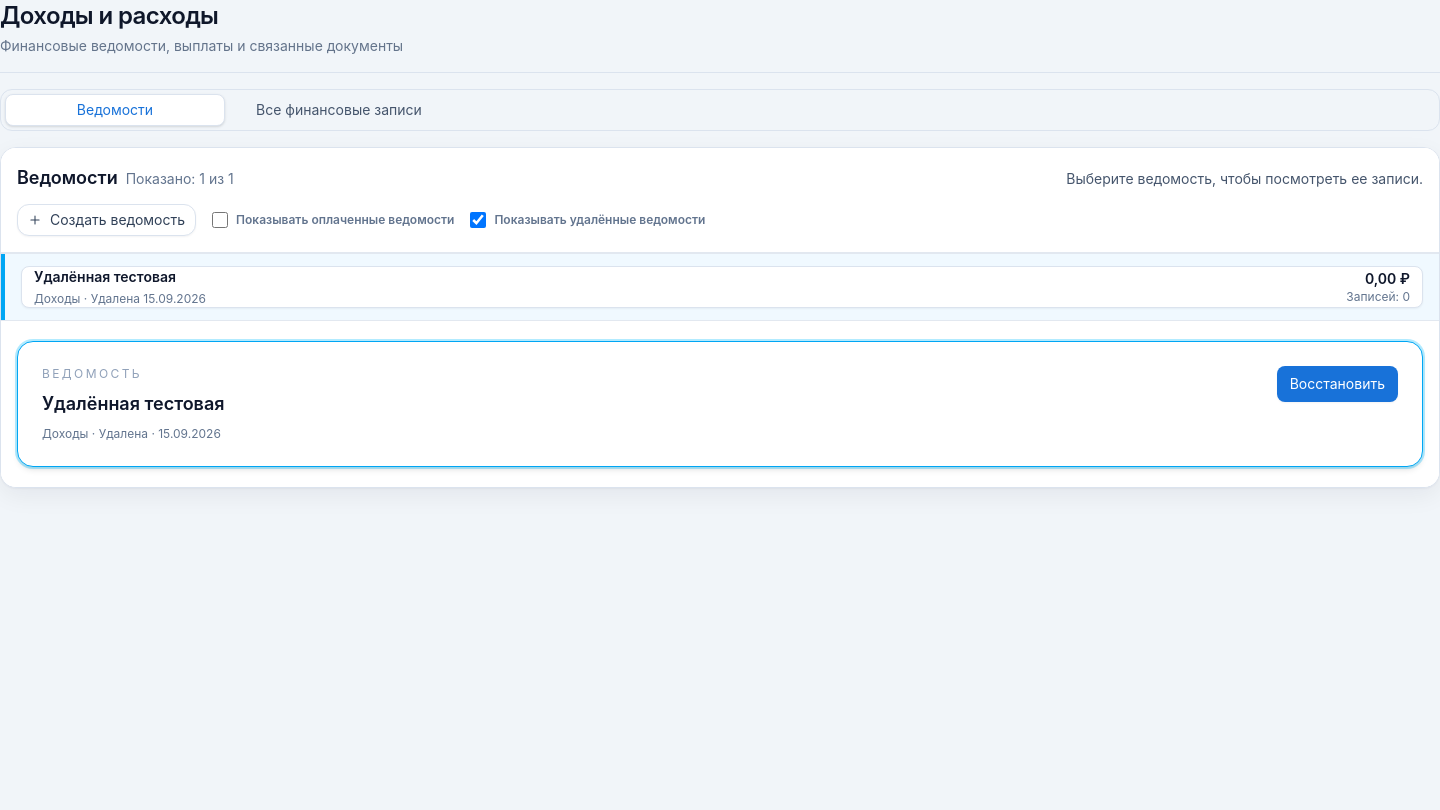
it: deleted statements › retains the partial restoration report when refreshing data fails
Click the button "Восстановить" at (1337,384), box [1277,366,1398,402]
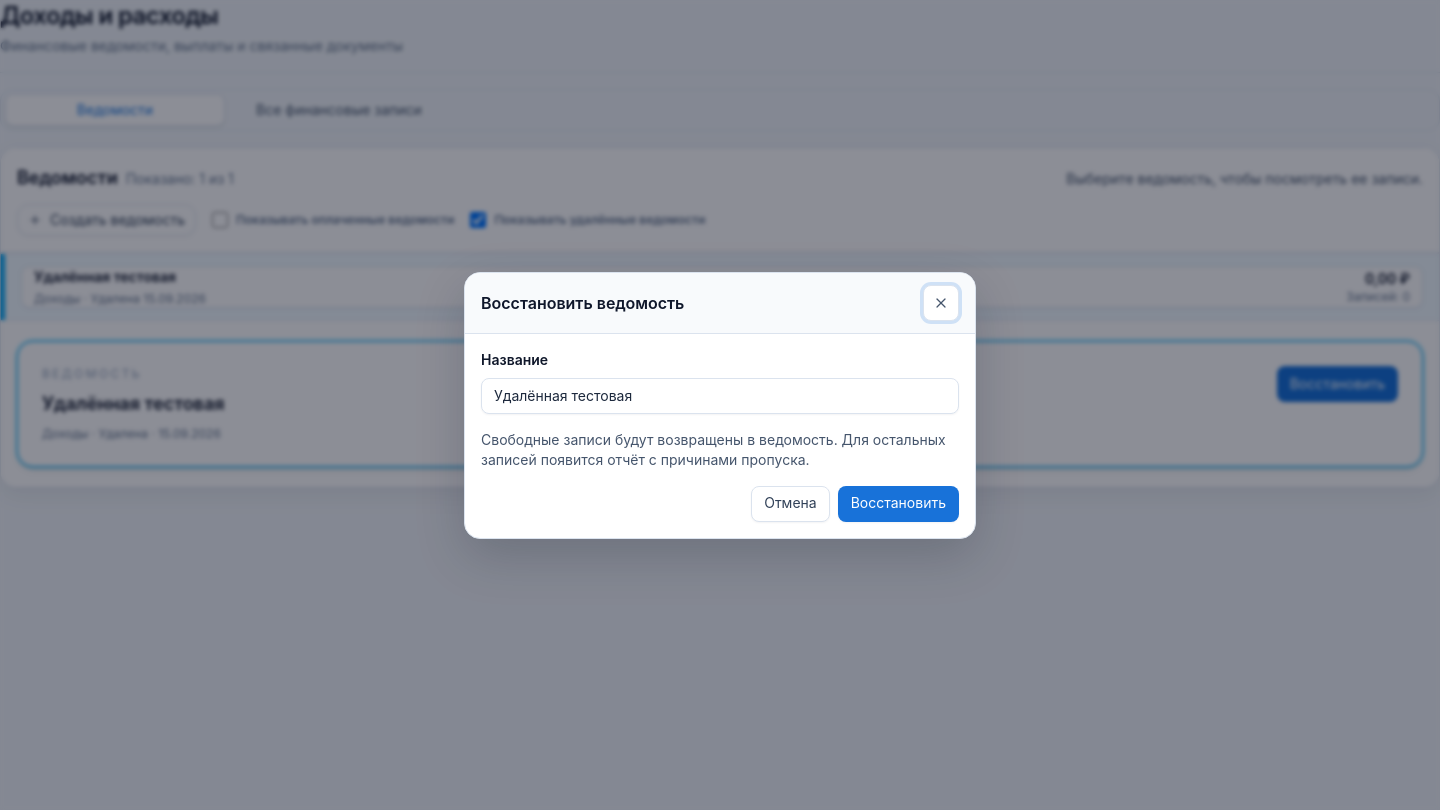
Click the button "Восстановить" at (898,504), box [838,486,959,522]
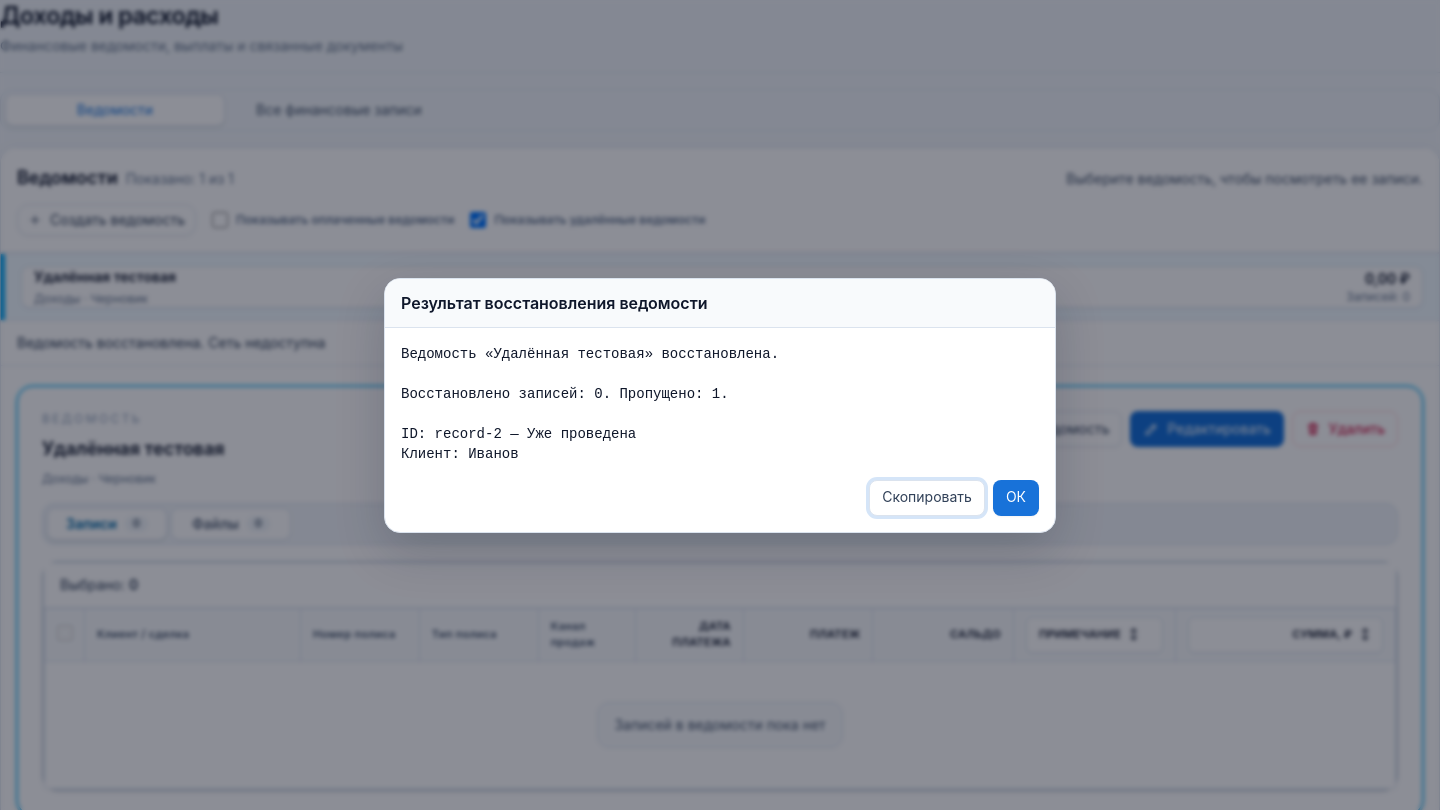
Now the dialog "Результат восстановления ведомости" shows "record-2", box [401,346,779,462]
Now the dialog shows "Иванов", box [401,346,779,462]
Now the dialog shows "Уже проведена", box [401,346,779,462]
